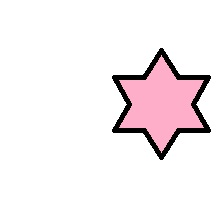star: (110, 47, 210, 161)
